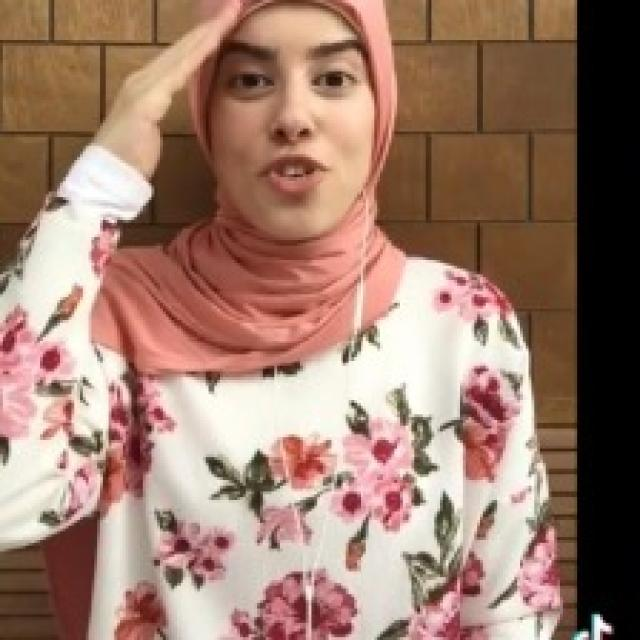Thanks: (96, 0, 245, 180)
